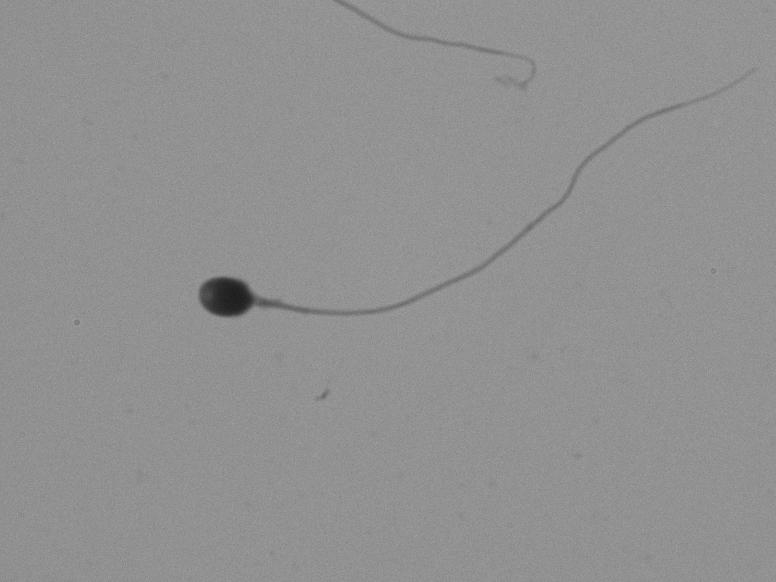Normal: (174, 69, 724, 385)
